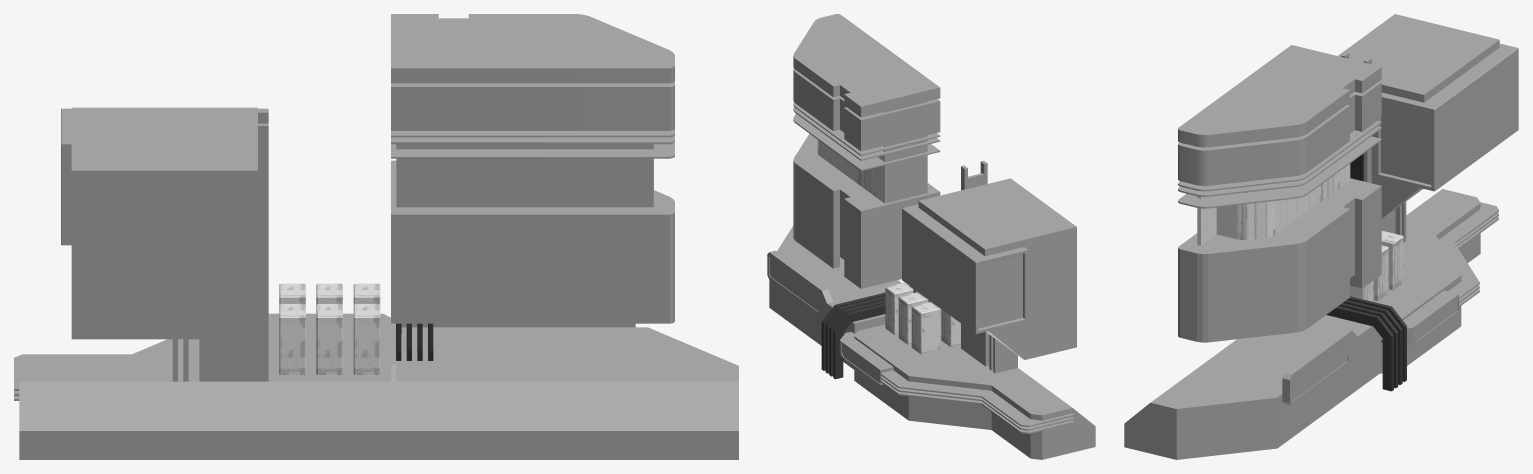
The model's file is XNF_02_UV7.fbx.
3 renders of one model, left to right at view 1: azimuth 30°, elevation 25°; view 2: azimuth 150°, elevation 25°; view 3: azimuth 270°, elevation 25°, orthographic. The views are drawn at different scales.
Parts seen in each view (by area): view 1: XNR_02_UV7; view 2: XNR_02_UV7; view 3: XNR_02_UV7.
Part boxes in pixels (bbox=[...]): XNR_02_UV7: bbox=[14, 14, 738, 459]; XNR_02_UV7: bbox=[767, 14, 1095, 459]; XNR_02_UV7: bbox=[1124, 14, 1518, 459].
Bounding box in the file's own units: 62.08 × 39 × 45.69.
9 materials, 9 textured.
